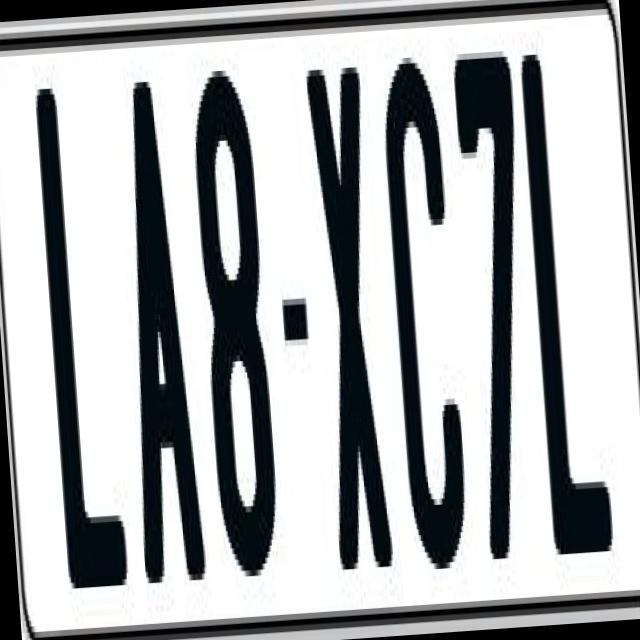7: (448, 44, 546, 571)
8: (188, 62, 283, 596)
A: (108, 80, 210, 589)
C: (374, 62, 470, 606)
L: (30, 67, 133, 588), (516, 51, 616, 572)
X: (300, 54, 392, 570)
